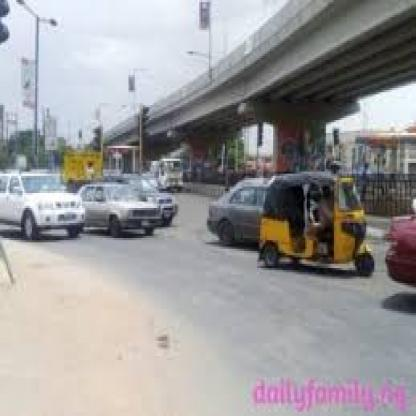car: (3, 160, 90, 258), (72, 165, 164, 251), (201, 178, 274, 257), (377, 192, 416, 302)
